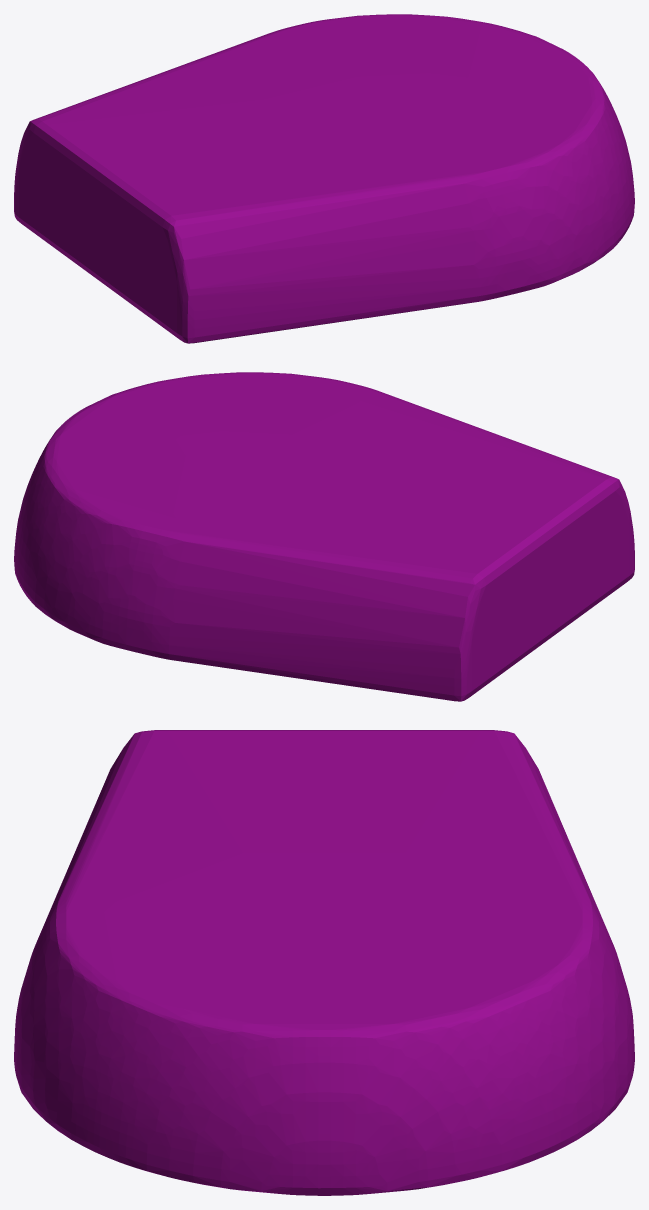
The model's file is left_elbow_link_part_14.obj.
The picture shows the model from 3 angles, top to bottom: view 1: azimuth 30°, elevation 25°; view 2: azimuth 150°, elevation 25°; view 3: azimuth 270°, elevation 25°; orthographic projection. The views are drawn at different scales.
Bounding box in the file's own units: 0.0905 × 0.0196 × 0.0731.
